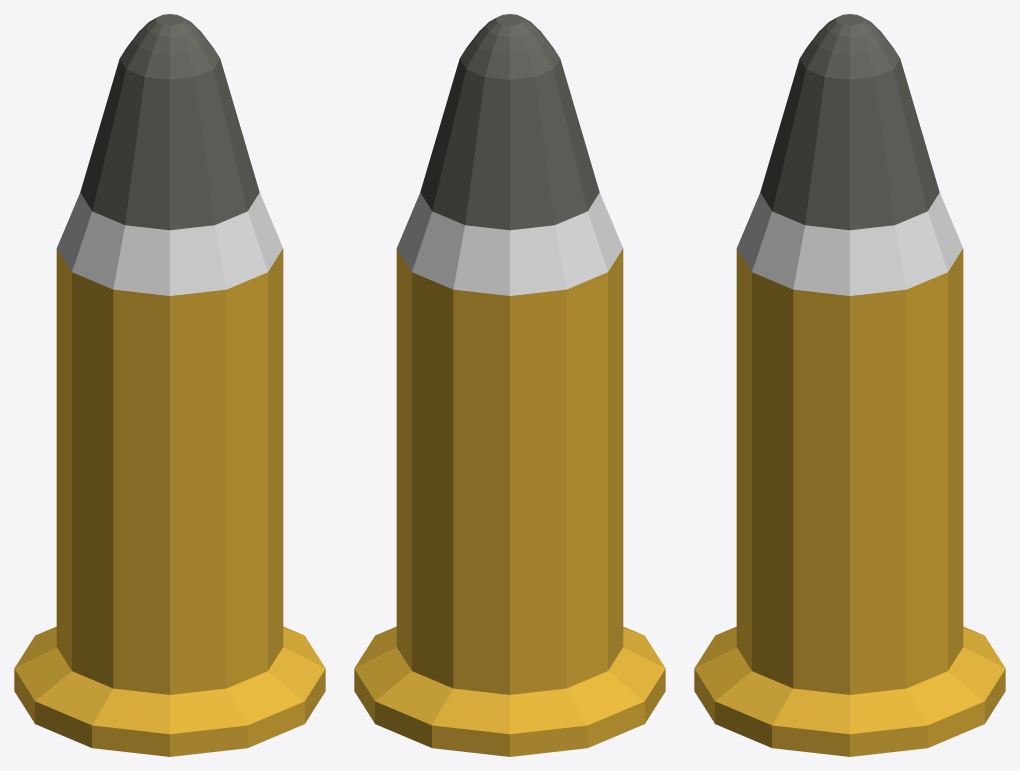
File: AP Shell .fbx
3 views of the same model, side by side, from view 1: azimuth 30°, elevation 25°; view 2: azimuth 150°, elevation 25°; view 3: azimuth 270°, elevation 25° (orthographic).
Visible parts, largest first — view 1: Cylinder; view 2: Cylinder; view 3: Cylinder.
Part boxes in pixels (left/top/right/bottom): Cylinder: left=14, top=14, right=325, bottom=756; Cylinder: left=354, top=14, right=665, bottom=756; Cylinder: left=694, top=14, right=1005, bottom=756.
Bounding box in the file's own units: 200 × 476 × 200.
